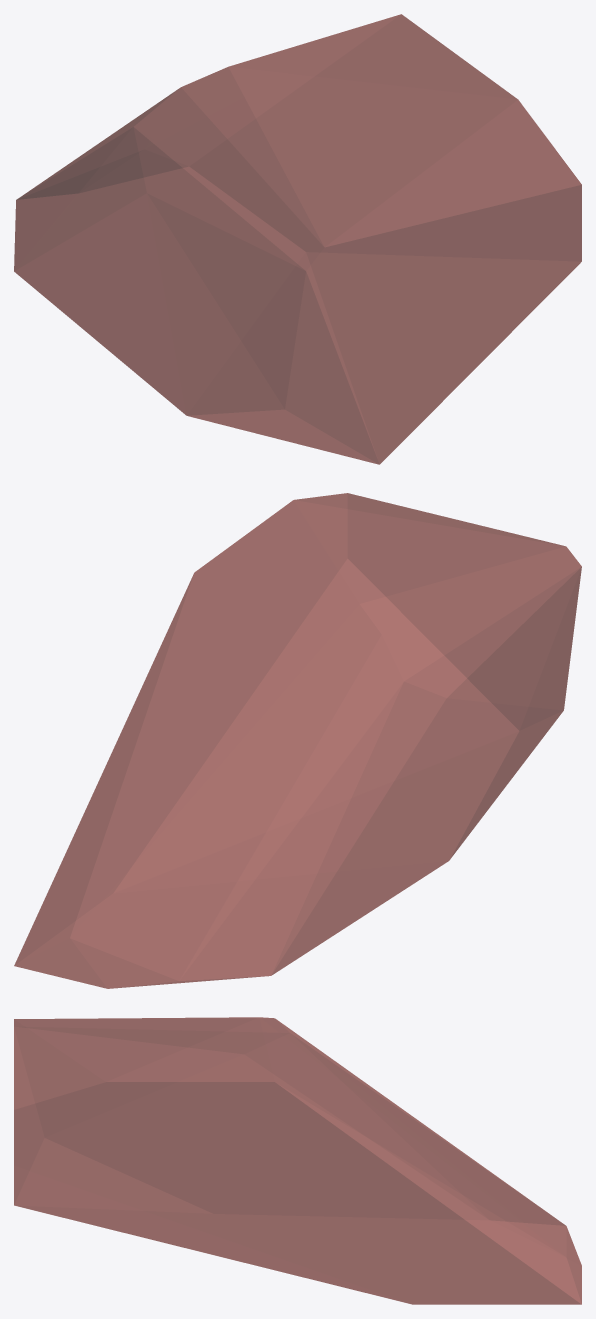
3 renders of one model, top to bottom at view 1: azimuth 30°, elevation 25°; view 2: azimuth 150°, elevation 25°; view 3: azimuth 270°, elevation 25°, orthographic. The views are drawn at different scales.
Visible parts, largest first — view 1: Shape_IndexedFaceSet.046_Shape_IndexedFaceSet.15251; view 2: Shape_IndexedFaceSet.046_Shape_IndexedFaceSet.15251; view 3: Shape_IndexedFaceSet.046_Shape_IndexedFaceSet.15251.
Boxes of the visible parts, left/top/right/bottom form: Shape_IndexedFaceSet.046_Shape_IndexedFaceSet.15251: left=14, top=14, right=581, bottom=464; Shape_IndexedFaceSet.046_Shape_IndexedFaceSet.15251: left=14, top=493, right=581, bottom=988; Shape_IndexedFaceSet.046_Shape_IndexedFaceSet.15251: left=14, top=1017, right=581, bottom=1304.
Size of the model in its own units: 0.00653 by 0.00696 by 0.0161.
